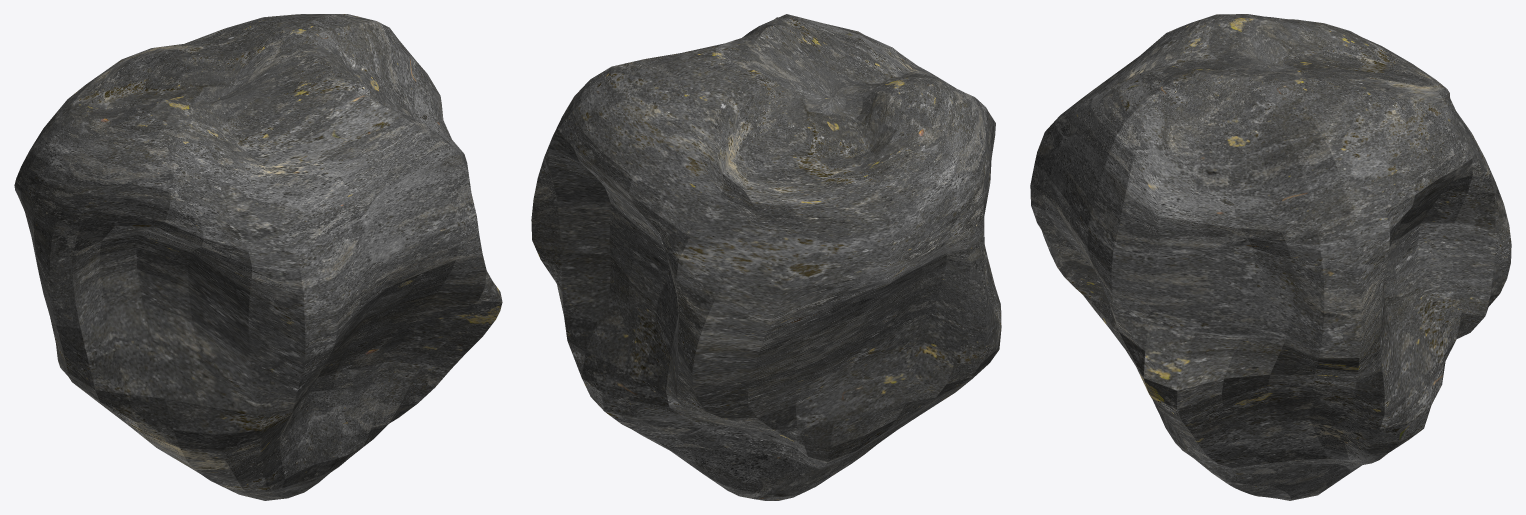
File: SmallAsteroid1.fbx
3 views of the same model, side by side, from view 1: azimuth 30°, elevation 25°; view 2: azimuth 150°, elevation 25°; view 3: azimuth 270°, elevation 25° (orthographic). The views are drawn at different scales.
Visible parts, largest first — view 1: Sphere; view 2: Sphere; view 3: Sphere.
Boxes of the visible parts, x1,y1,x2,y2 form: Sphere: (14,14,502,500); Sphere: (531,14,1001,500); Sphere: (1030,14,1511,500).
Size of the model in its own units: 31.9 by 32.17 by 32.33.
1 material, 1 textured.
